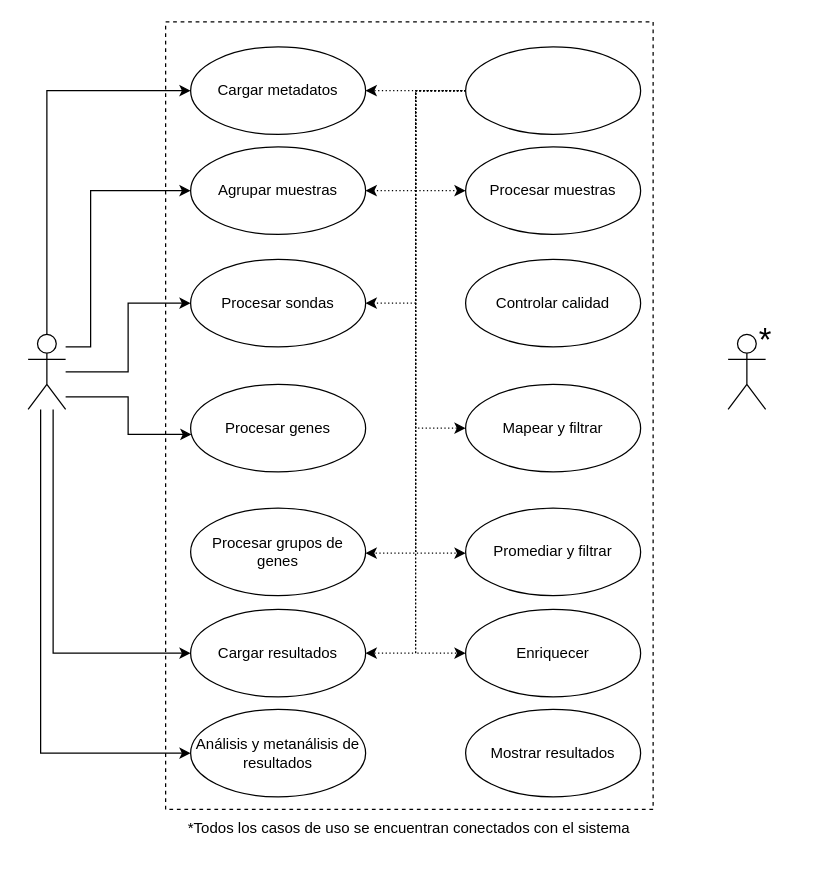
This 825x869 diagram has some shape labels left out. Here are the shapes that lost their labels. From the top down, the box of each, then its label:
(464, 46, 641, 134): Avisar (loguear)
(27, 333, 66, 409): Usuario
(727, 333, 766, 409): Sistema
